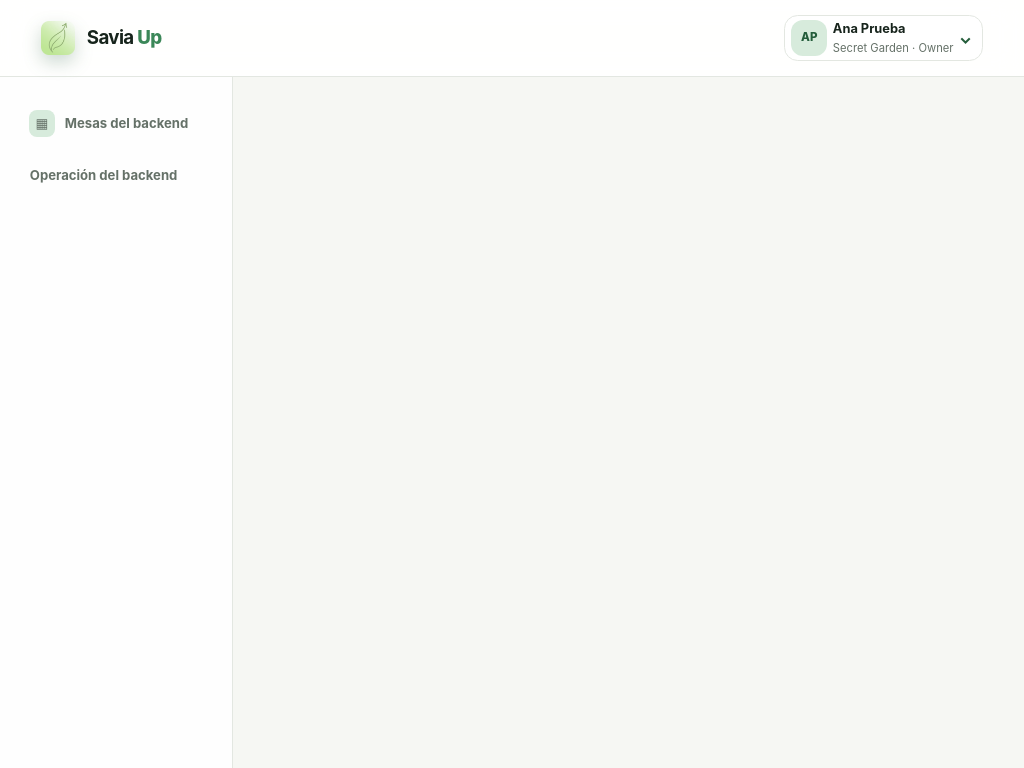
Scenario: AppLayoutComponent › expands and collapses a grouped section as an options popover
Click the button with class "navigation-group__trigger" at (108, 176), box [16, 154, 201, 198]
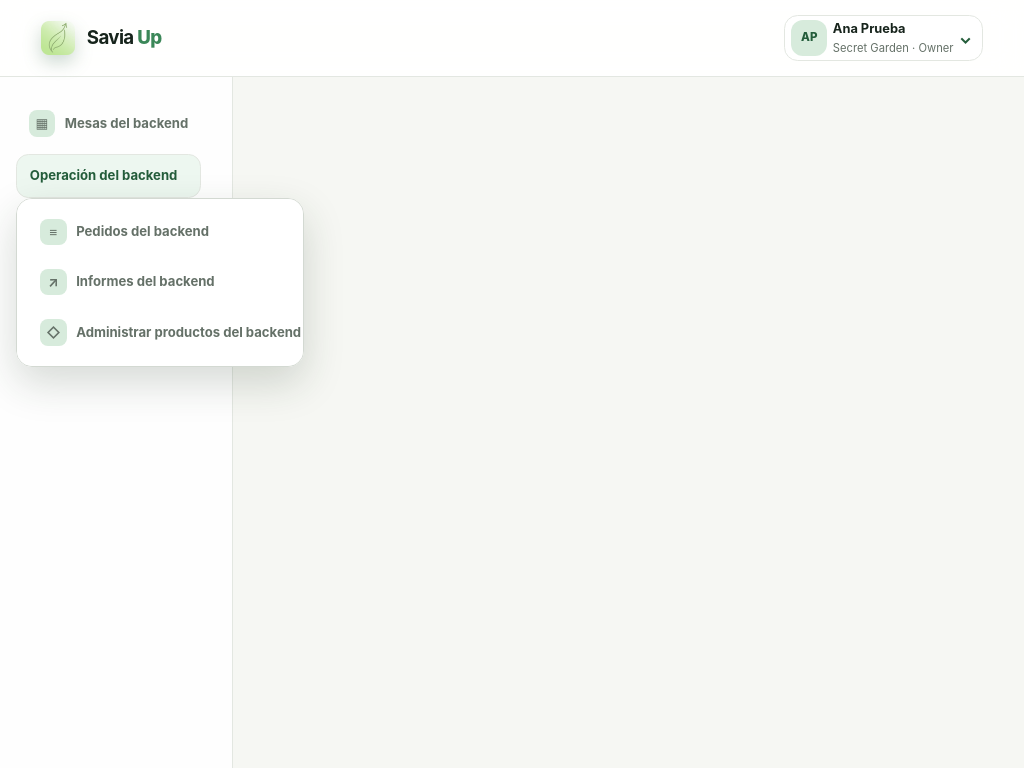
Expected: the element with class "navigation-popover" is shown, [16, 198, 304, 367]
Click the button with class "navigation-group__trigger" at (108, 176), box [16, 154, 201, 198]
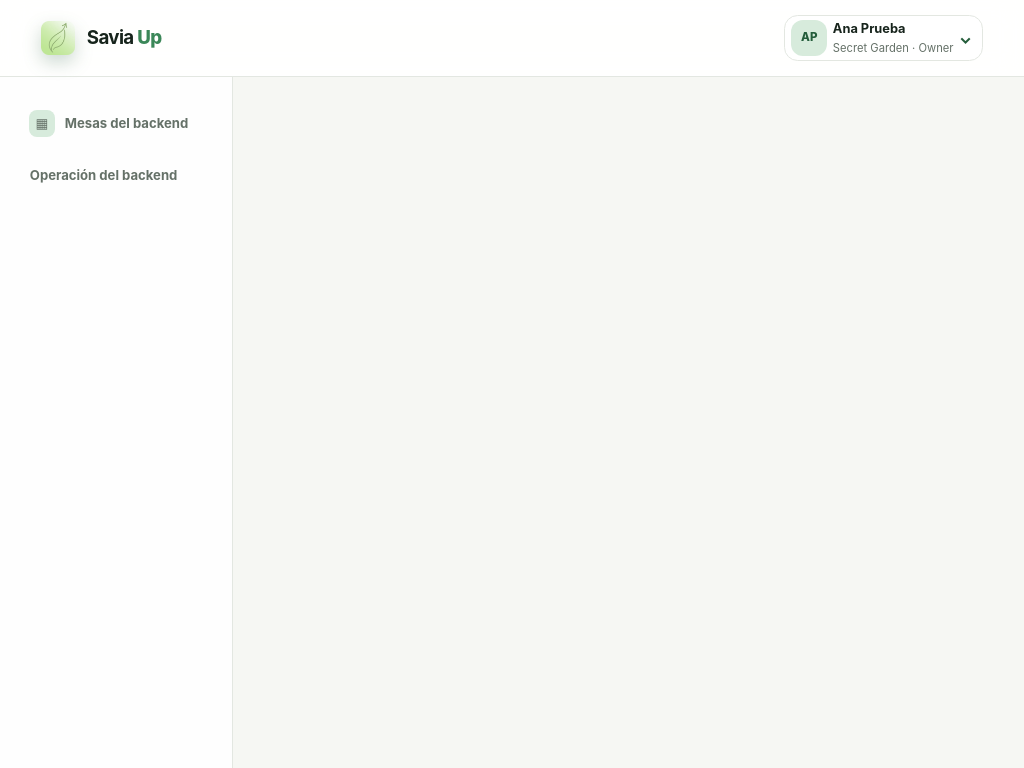
Expected: the element with class "navigation-popover" is gone
